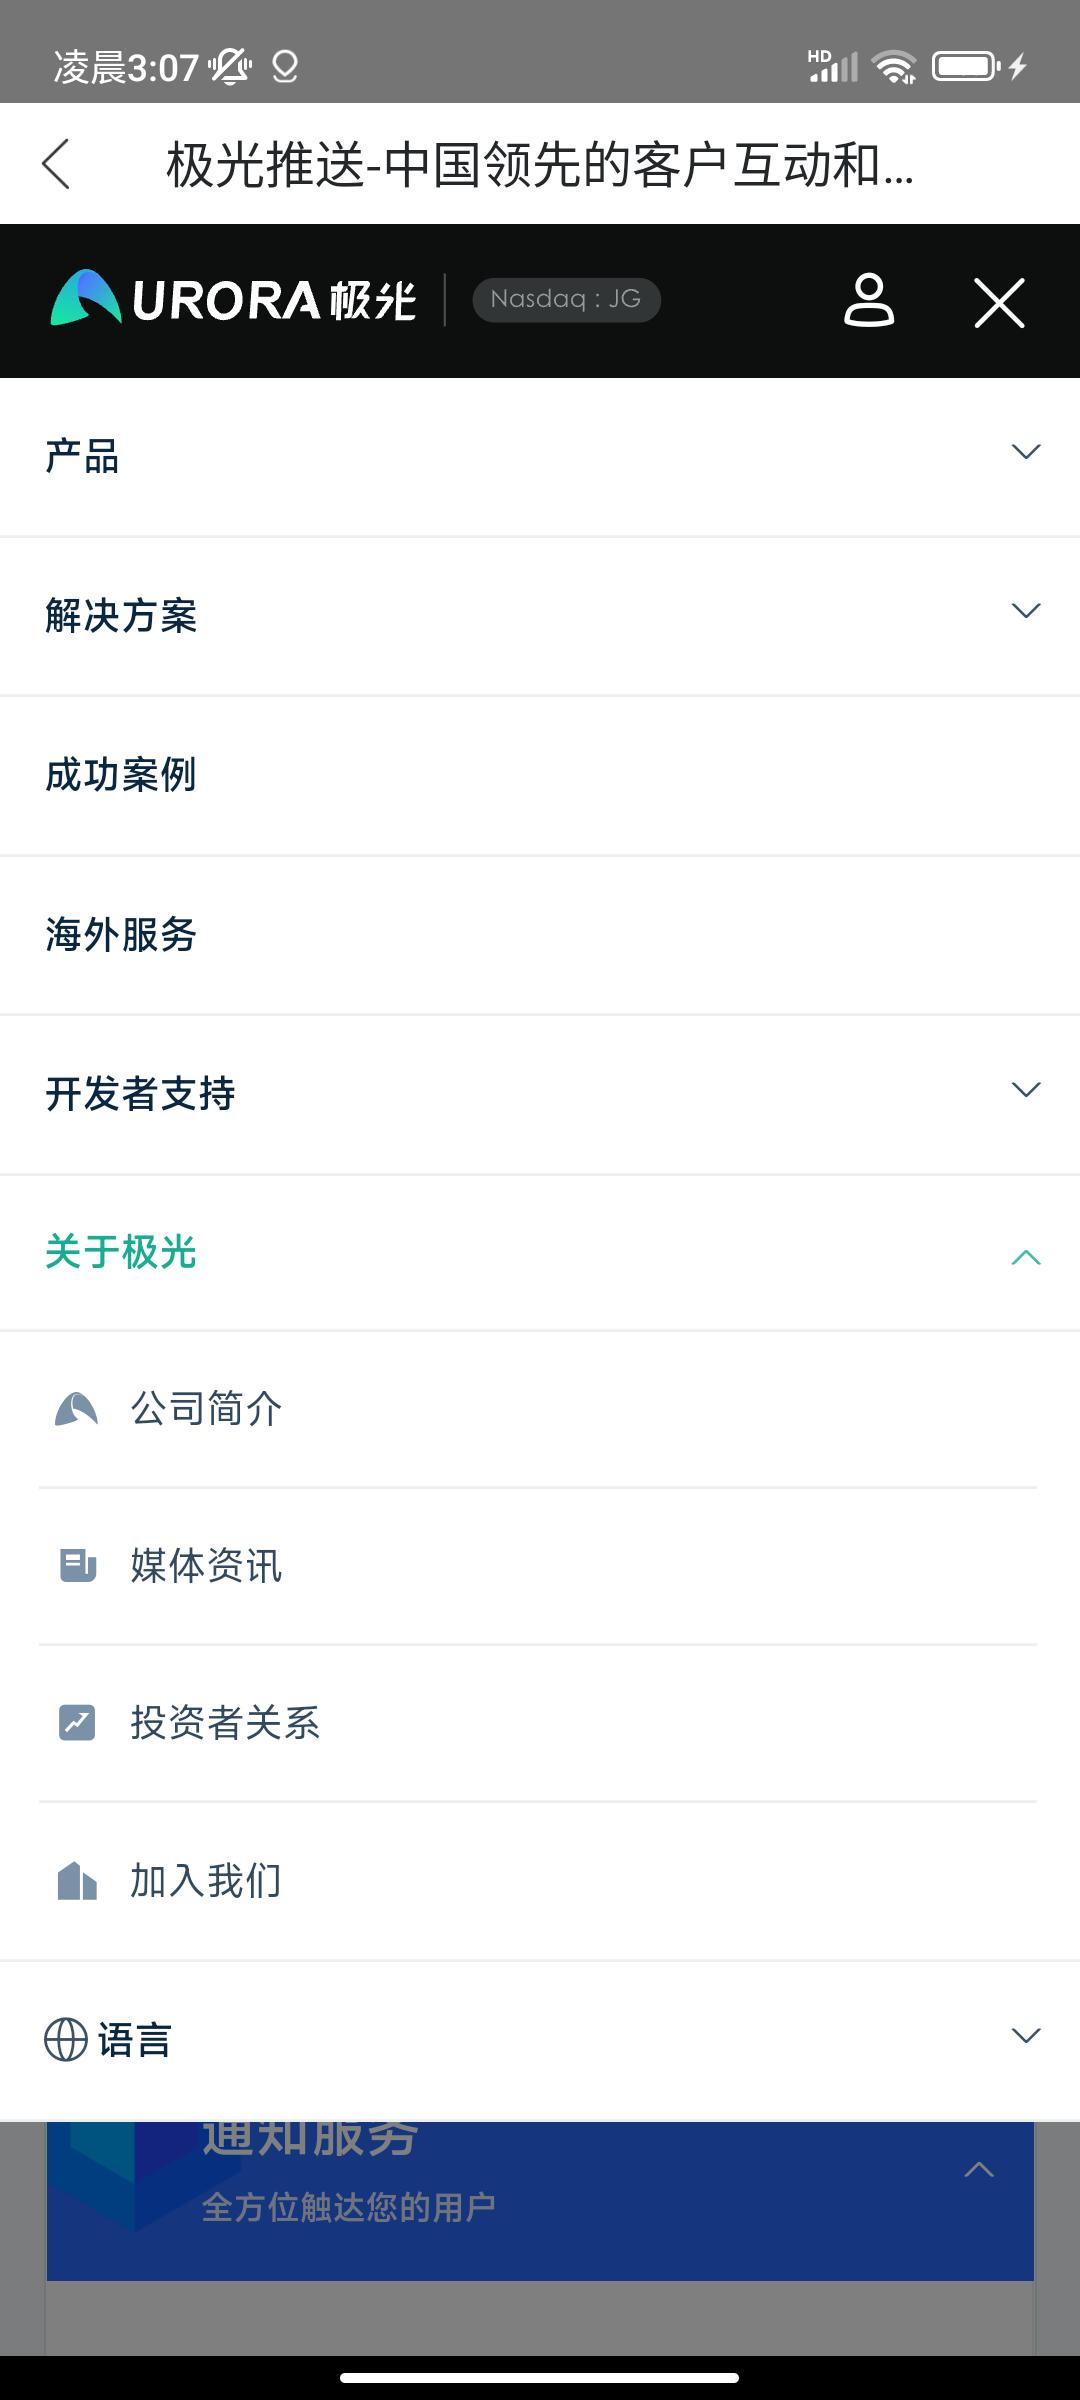ui_group: (9, 1188, 1080, 1955), (3, 1988, 1080, 2098)
